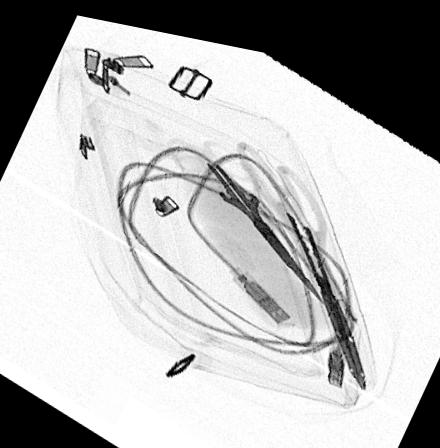Scissors: (230, 126, 370, 379), (160, 125, 333, 294)
